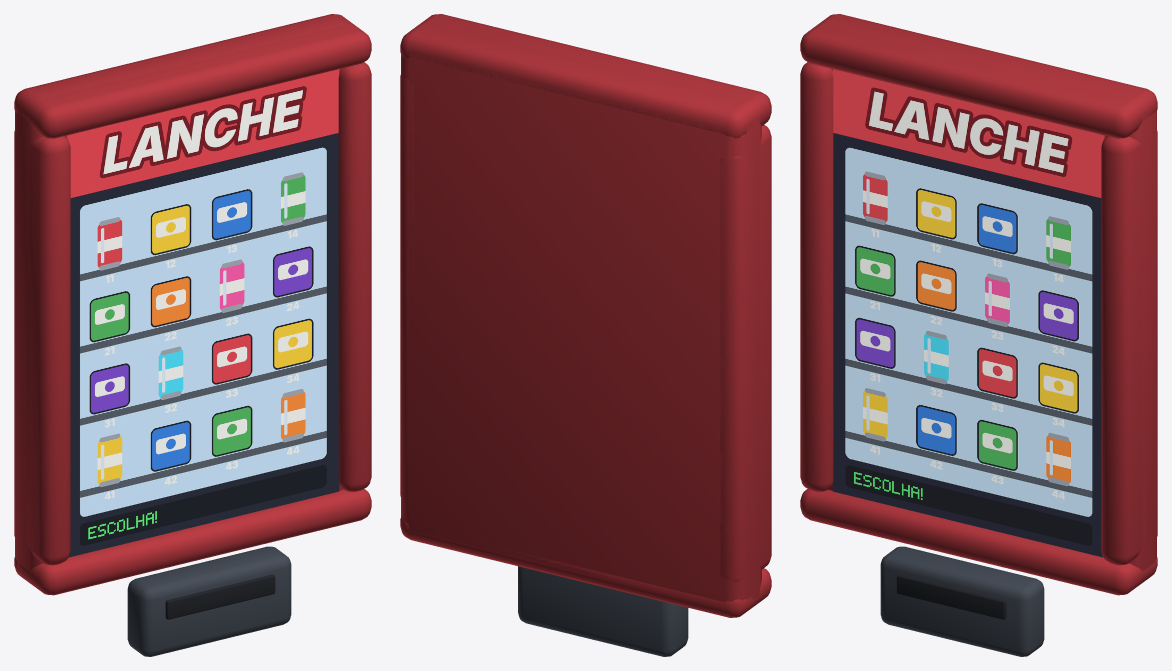
File: painel_maquina_lanche.glb
3 renders of one model, left to right at view 1: azimuth 30°, elevation 25°; view 2: azimuth 150°, elevation 25°; view 3: azimuth 330°, elevation 25°, orthographic. The views are drawn at different scales.
Visible parts, largest first — view 1: painel_maquina_lanche; view 2: painel_maquina_lanche; view 3: painel_maquina_lanche.
Boxes of the visible parts, x1,y1,x2,y2 form: painel_maquina_lanche: (14,14,371,656); painel_maquina_lanche: (400,14,771,656); painel_maquina_lanche: (800,14,1157,656).
Bounding box in the file's own units: 1.1 × 1.79 × 0.27.
2 materials, 2 textured.
